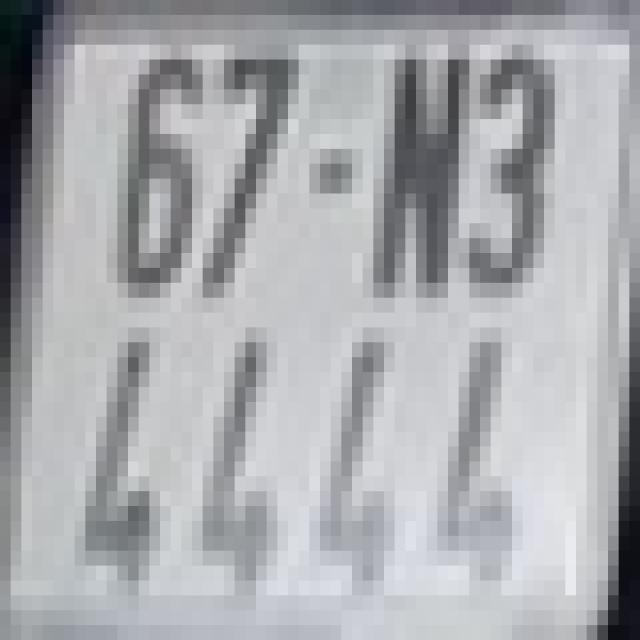3: (470, 45, 554, 298)
4: (437, 328, 523, 596), (74, 328, 160, 596), (192, 328, 278, 596), (320, 328, 395, 596)
6: (117, 45, 203, 298)
7: (202, 45, 298, 298)
N: (373, 45, 459, 298)
